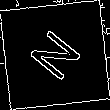N_SE: (23, 23, 87, 87)
